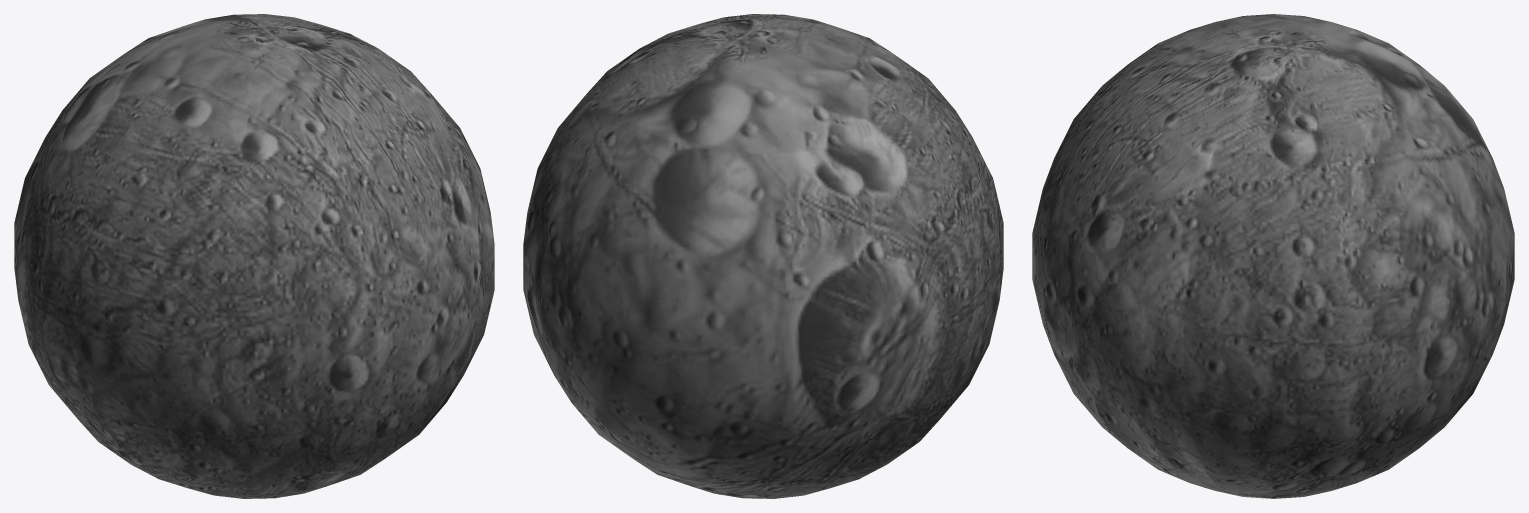
File: AsteroidW.obj
3 views of the same model, side by side, from view 1: azimuth 30°, elevation 25°; view 2: azimuth 150°, elevation 25°; view 3: azimuth 270°, elevation 25° (orthographic).
Bounding box in the file's own units: 1.99 × 2 × 1.99.
Materials: 1 (1 with a texture image).
